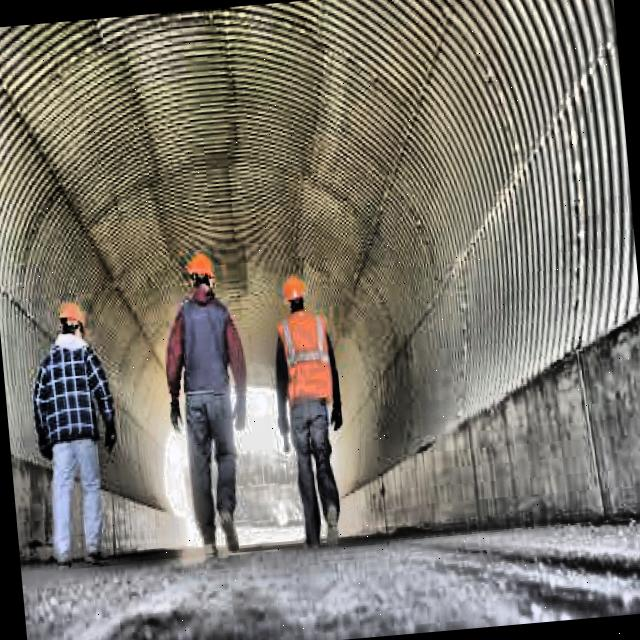helmet: (57, 300, 87, 351), (280, 272, 308, 323), (188, 252, 216, 303)
